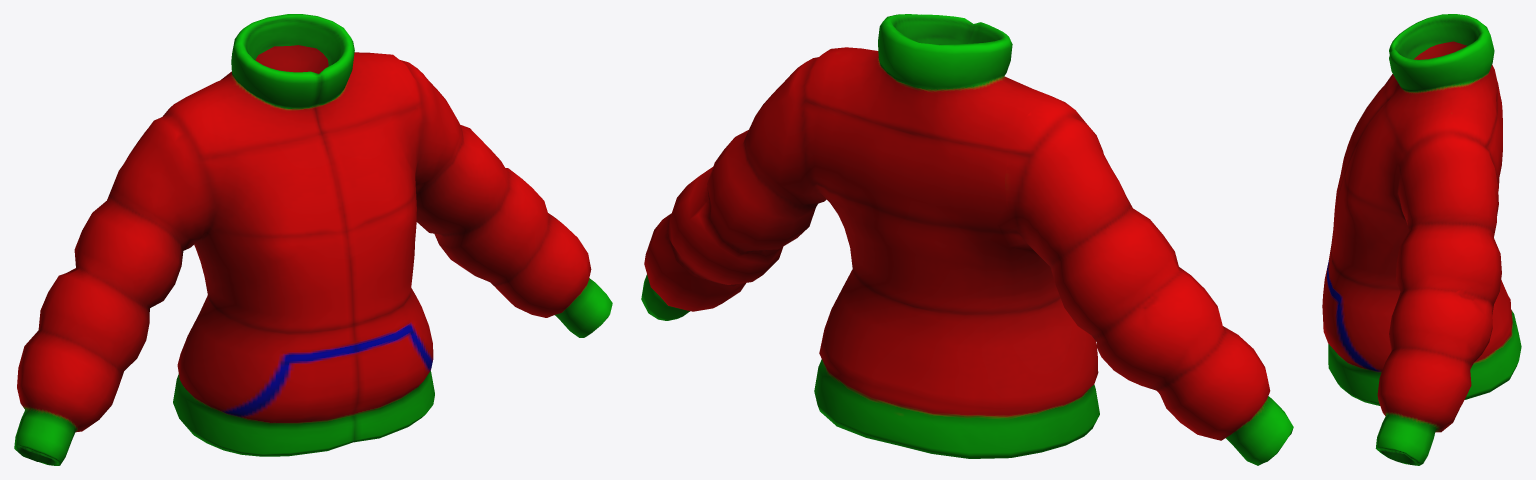
The model's file is Top_PuffyJacket.obj.
3 renders of one model, left to right at view 1: azimuth 30°, elevation 25°; view 2: azimuth 150°, elevation 25°; view 3: azimuth 270°, elevation 25°, orthographic. The views are drawn at different scales.
Parts seen in each view (by area): view 1: Top_PuffyJacket_0; view 2: Top_PuffyJacket_0; view 3: Top_PuffyJacket_0.
Boxes of the visible parts, x1,y1,x2,y2 form: Top_PuffyJacket_0: [14, 14, 612, 465]; Top_PuffyJacket_0: [641, 14, 1293, 465]; Top_PuffyJacket_0: [1322, 14, 1521, 465].
Size of the model in its own units: 0.9007 by 0.5354 by 0.2921.
Materials: 1 (1 with a texture image).
